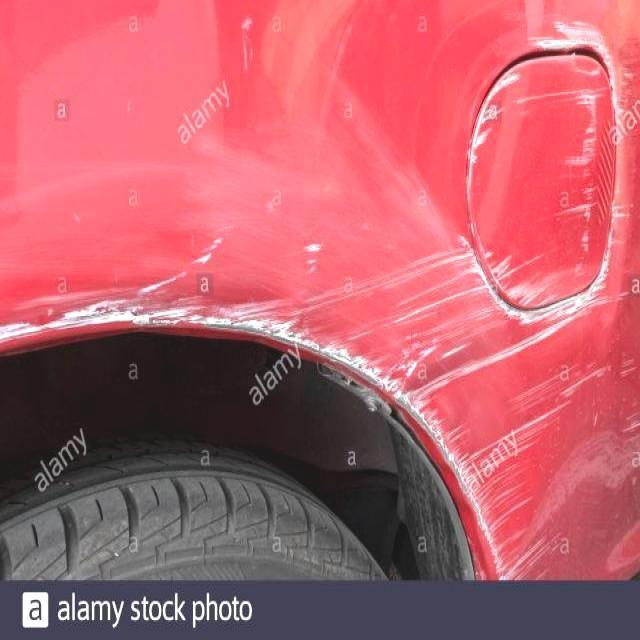minor: (558, 303, 618, 324)
moderate: (0, 273, 493, 544), (425, 369, 640, 579), (498, 0, 640, 239), (342, 252, 532, 380), (477, 249, 609, 323), (471, 57, 544, 171), (557, 96, 602, 252), (464, 319, 559, 381)
